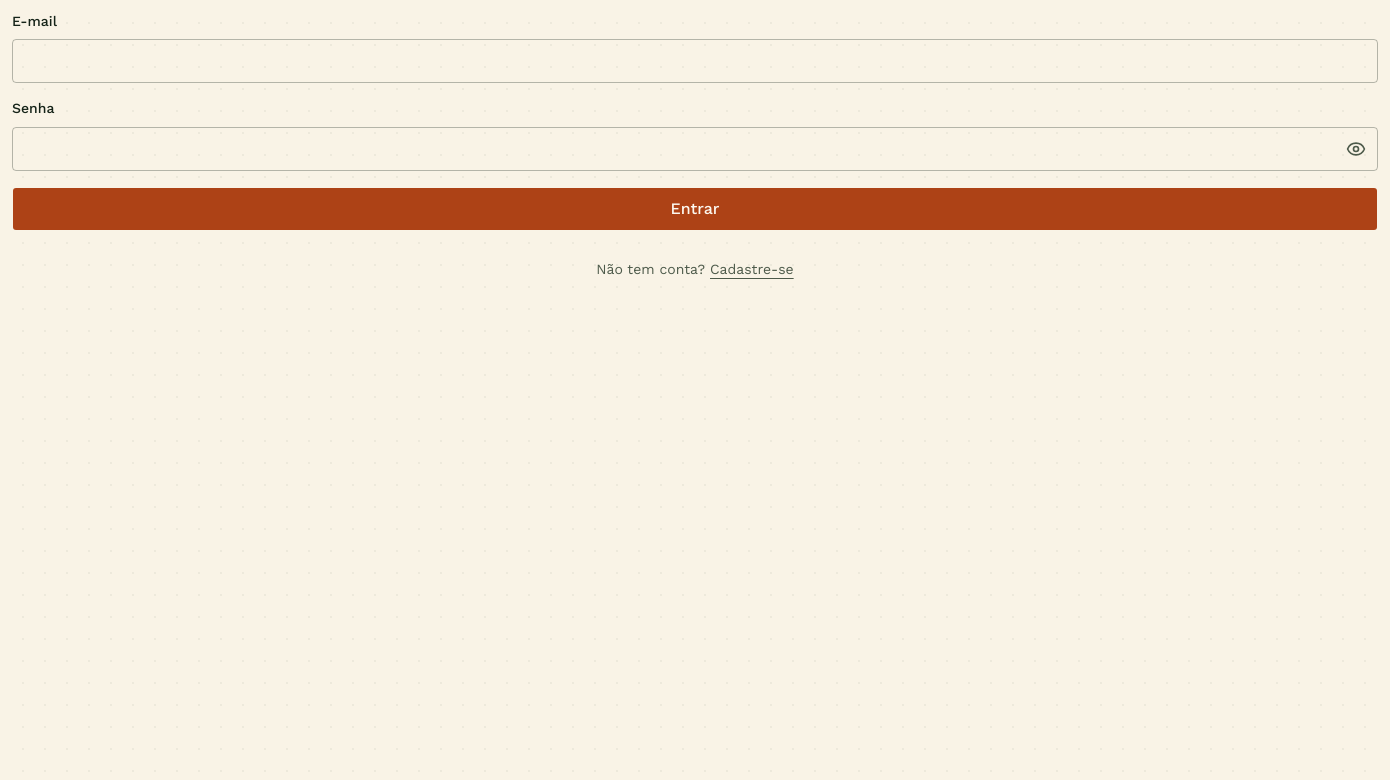
Test case: LoginForm: erro com toast + aviso inline (role=alert) › credenciais inválidas
The width and height of the screenshot is (1390, 780).
Type "a@b.com" into the field labelled "E-mail" at (695, 61), box left=12, top=39, right=1378, bottom=83
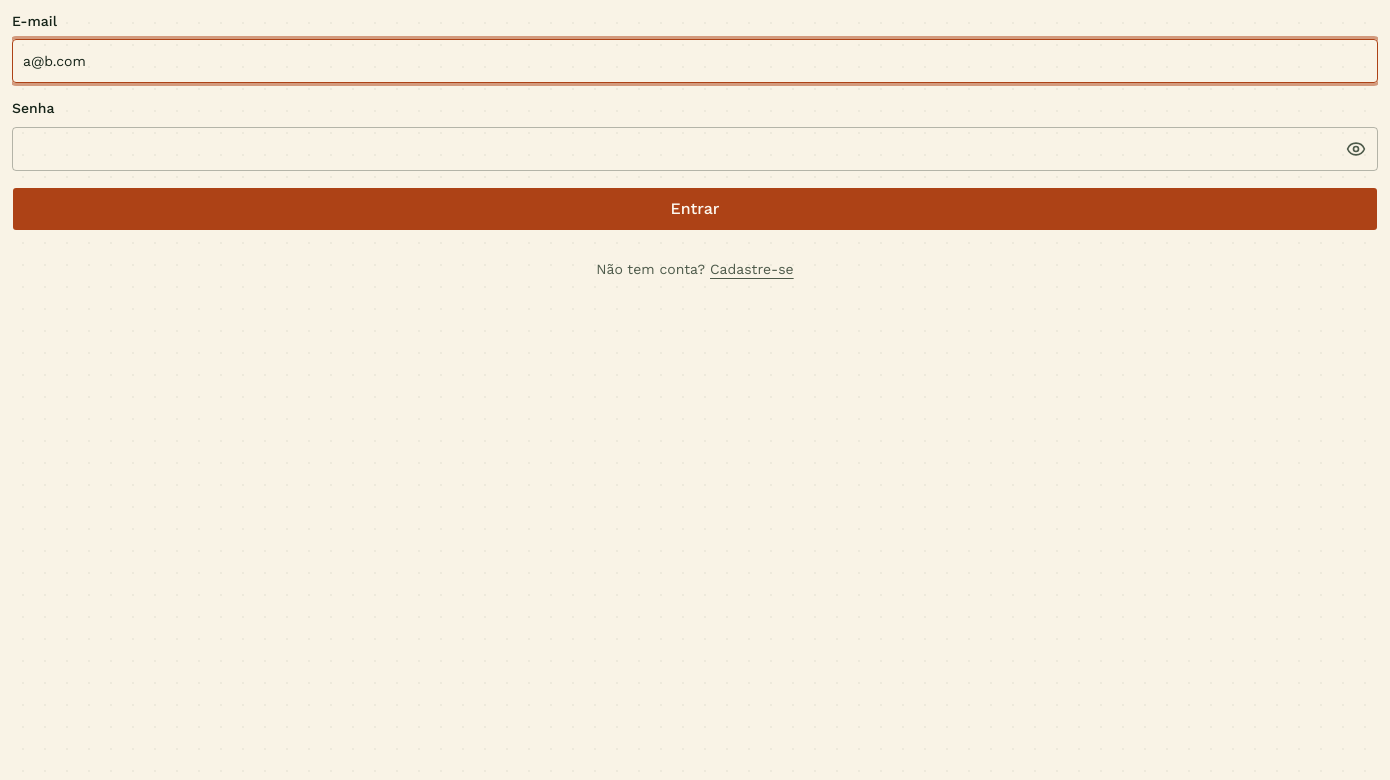
Type "errada" into the password field labelled "Senha" at (695, 148), box left=12, top=126, right=1378, bottom=170
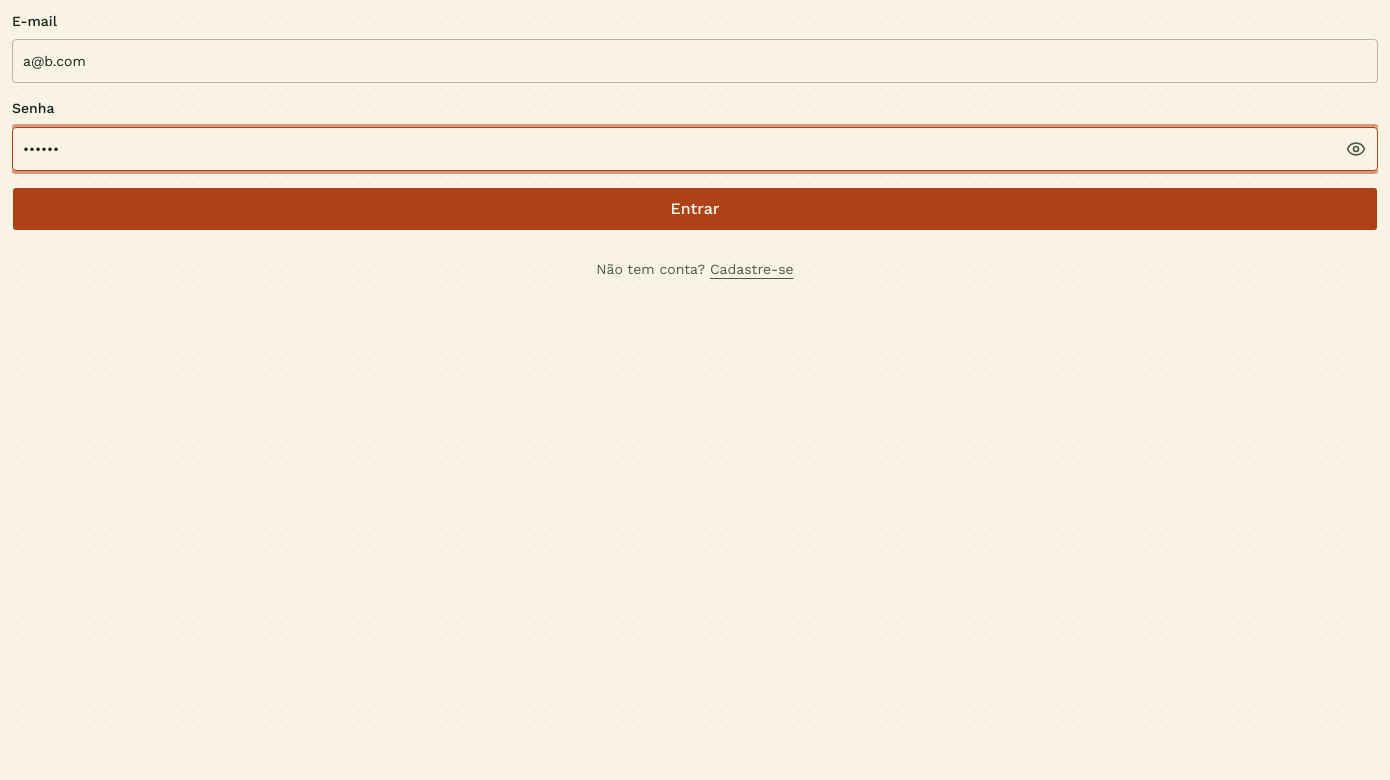
Click the button "Entrar" at (695, 208), box left=12, top=186, right=1378, bottom=230
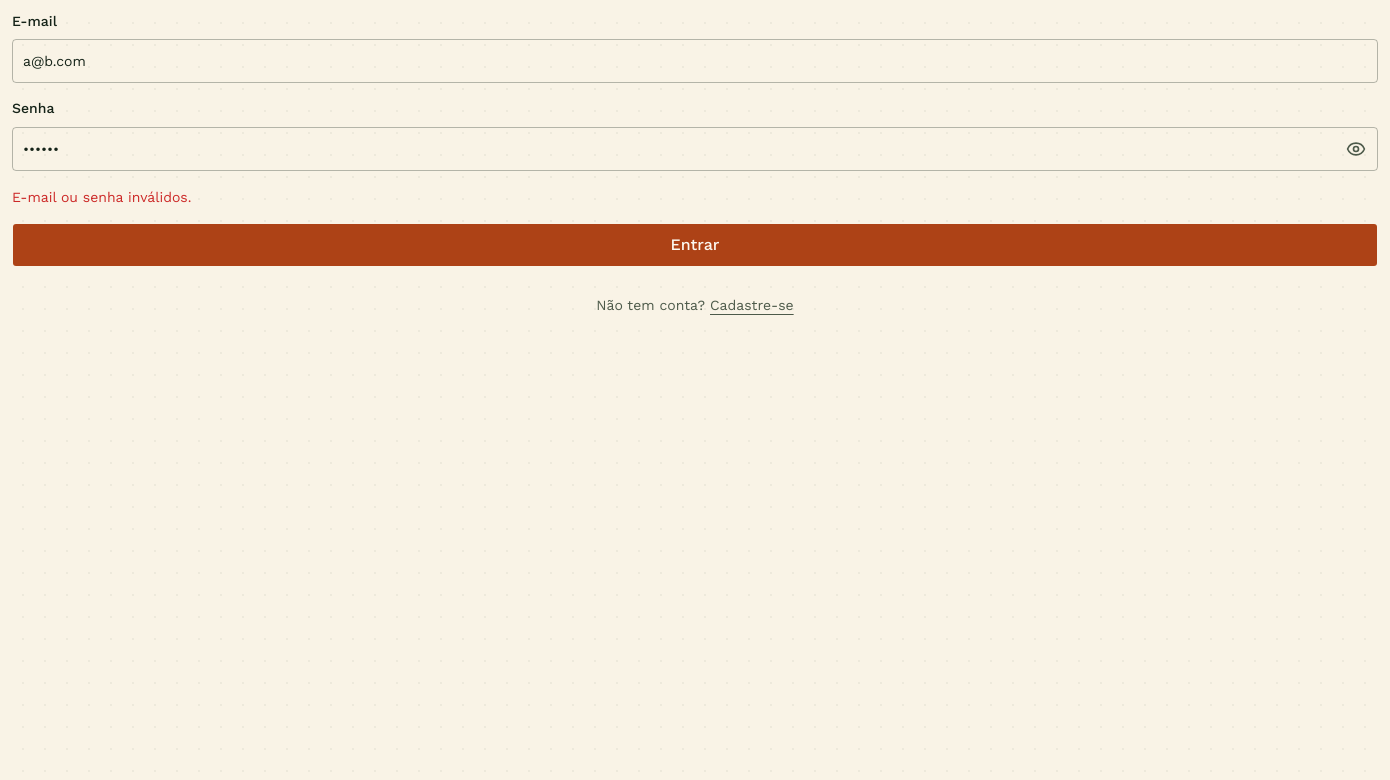
Expected: the message reads "E-mail ou senha inválidos.", left=12, top=188, right=192, bottom=204
